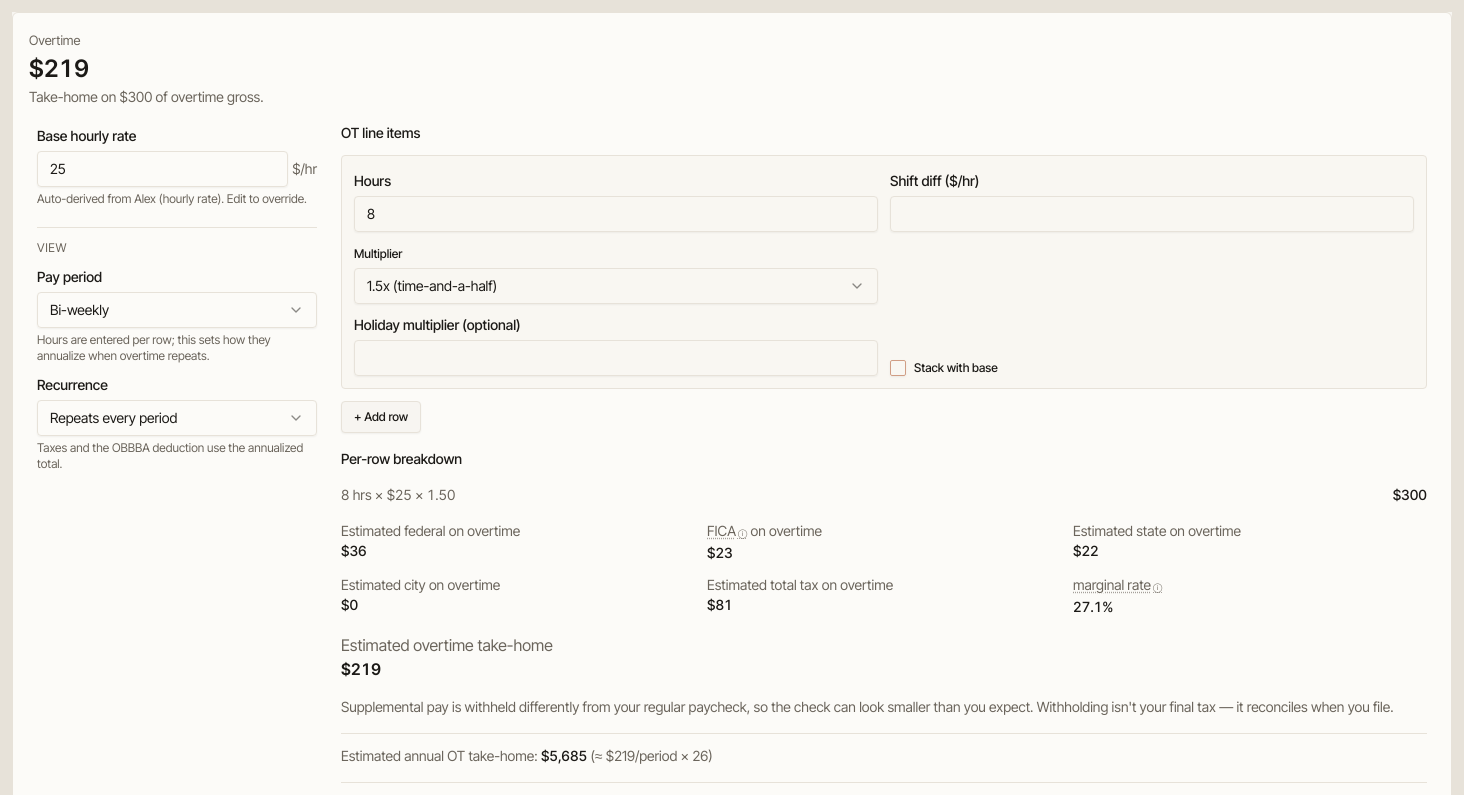
Test: OvertimeCard › adding a row updates the per-row breakdown count
This screenshot has width=1464, height=795.
Expected: the number of number fields labelled "Hours" is 1, x1=354 y1=196 x2=878 y2=232
# Click "Add row" — should now show two row inputs.
What coordinates should you click on to do the following:
click the button "+ Add row"
I would click on:
 (381, 416)
Its box is x1=341 y1=400 x2=421 y2=432.
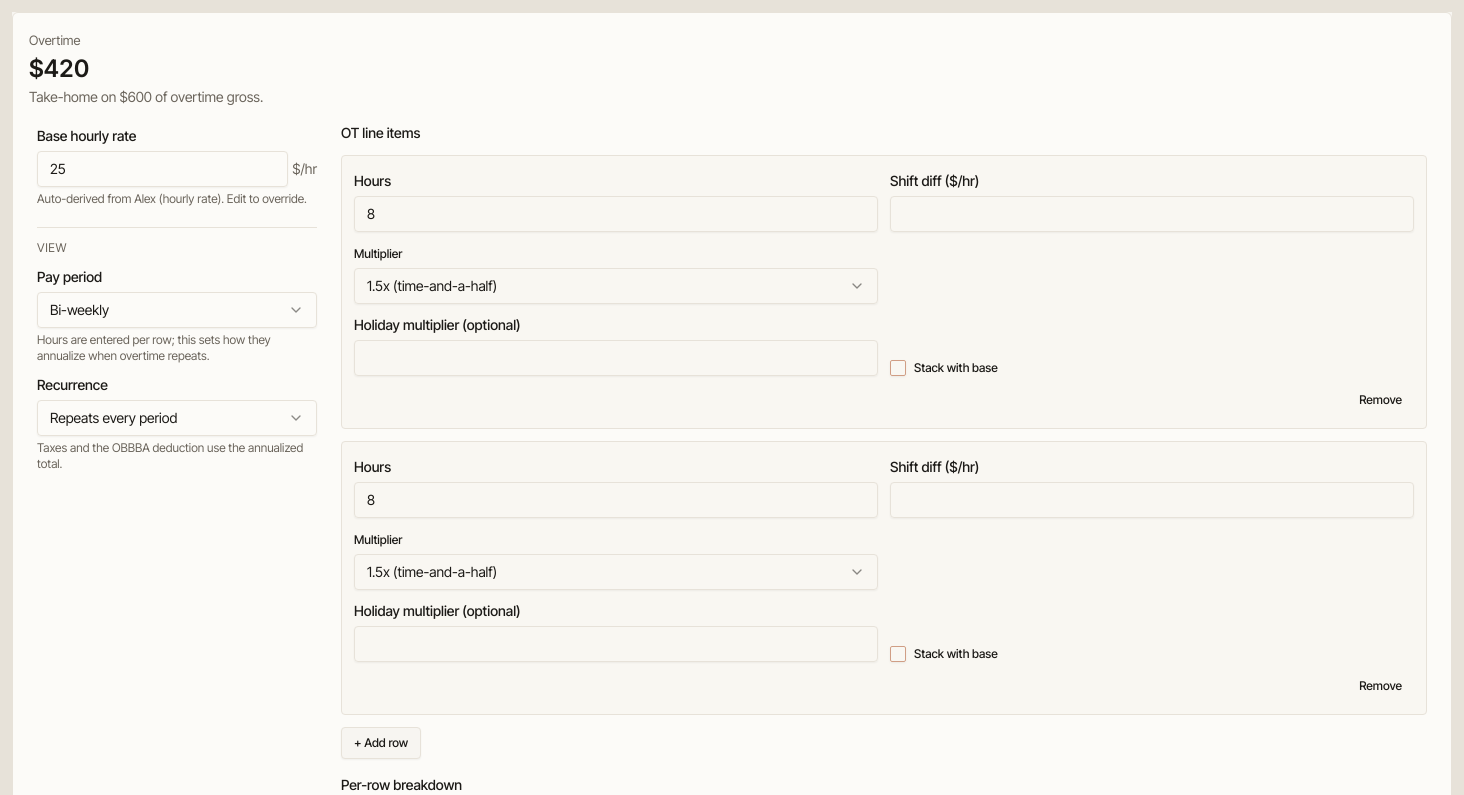
Result: the number of number fields labelled "Hours" is 2 at x1=354 y1=196 x2=878 y2=232; x1=354 y1=482 x2=878 y2=518
